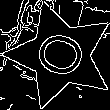O_E: (28, 27, 93, 84)
